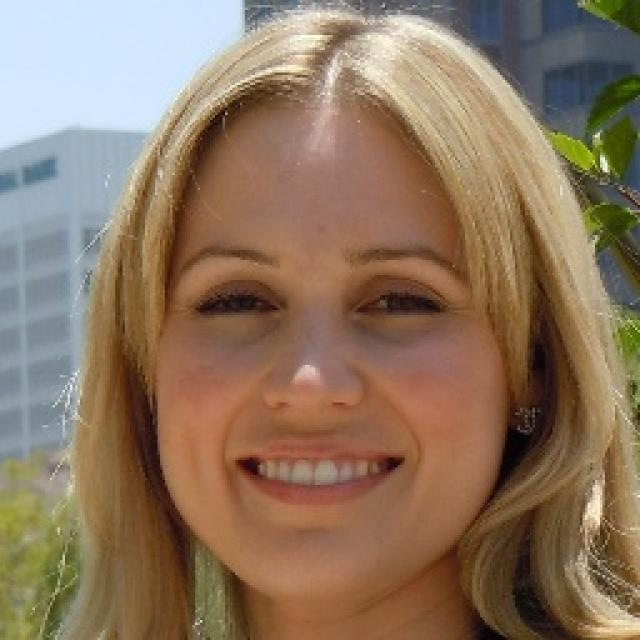earlobe: (505, 388, 555, 431)
eye: (195, 285, 292, 320), (356, 284, 445, 318)
nose: (264, 393, 366, 442)
